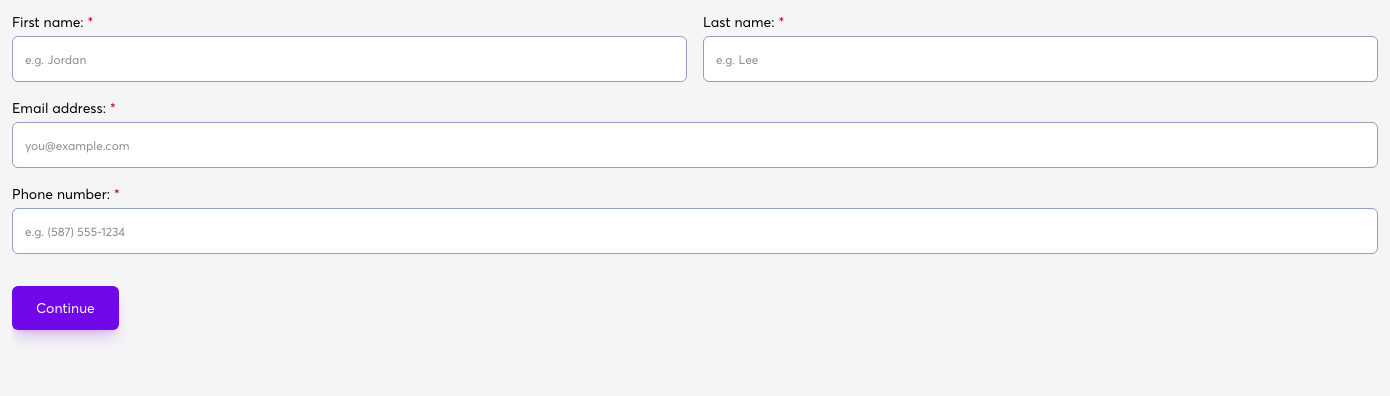
Scenario: accepts a two-letter name, trims it and marks required fields
Type "  Li  " into the field named "firstname" at (350, 59), box [12, 36, 687, 82]
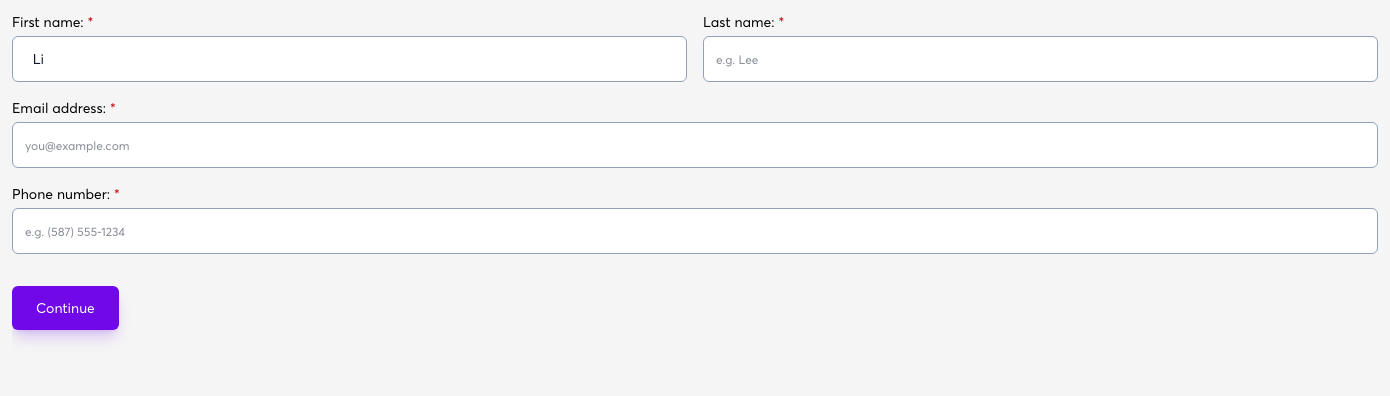
Type "Lovelace" into the field labelled "Last name:" at (1040, 59), box [703, 36, 1378, 82]
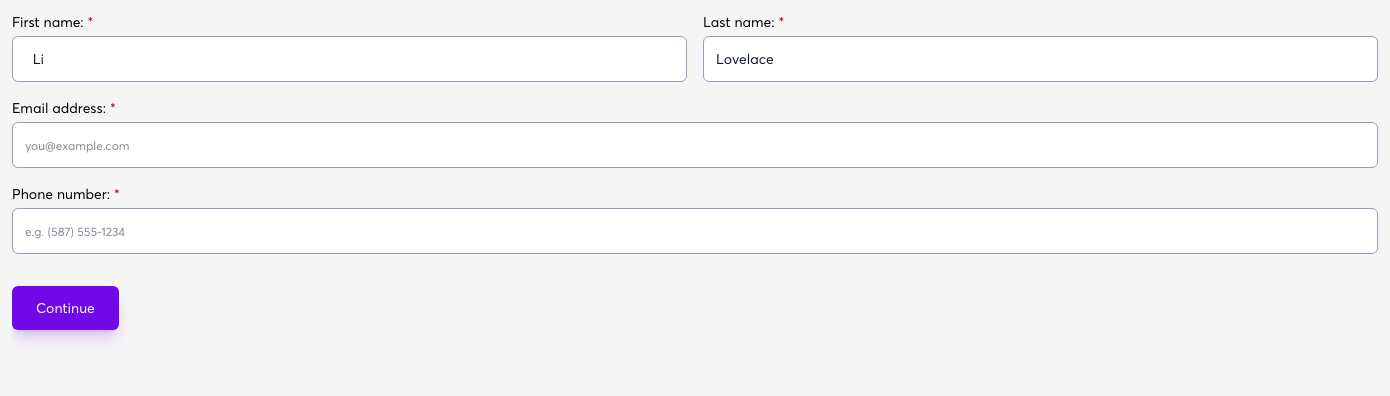
Type "ada@example.com" into the field named "emailAddress" at (695, 145), box [12, 122, 1378, 168]
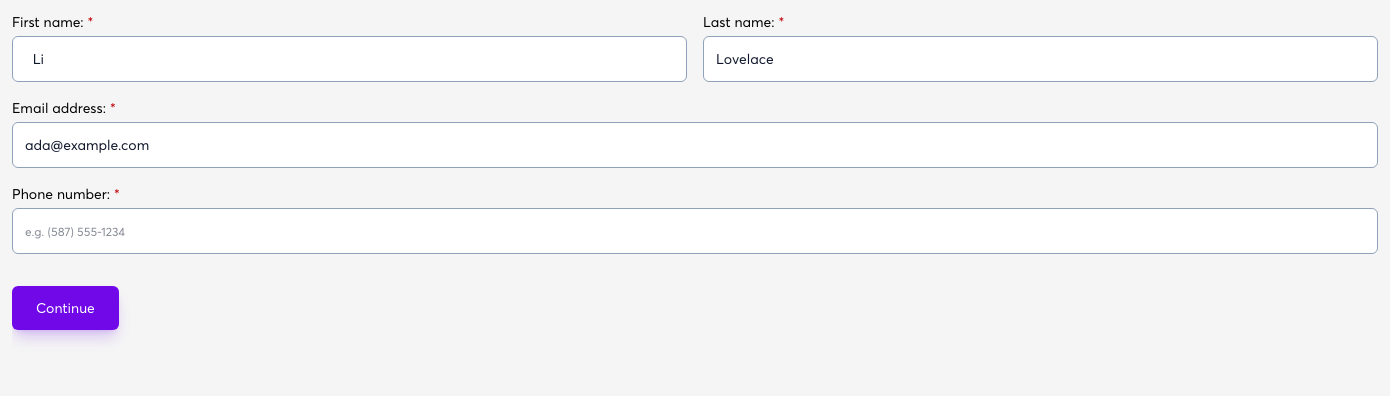
Type "5875551234" into the field named "phoneNumber" at (695, 231), box [12, 208, 1378, 254]
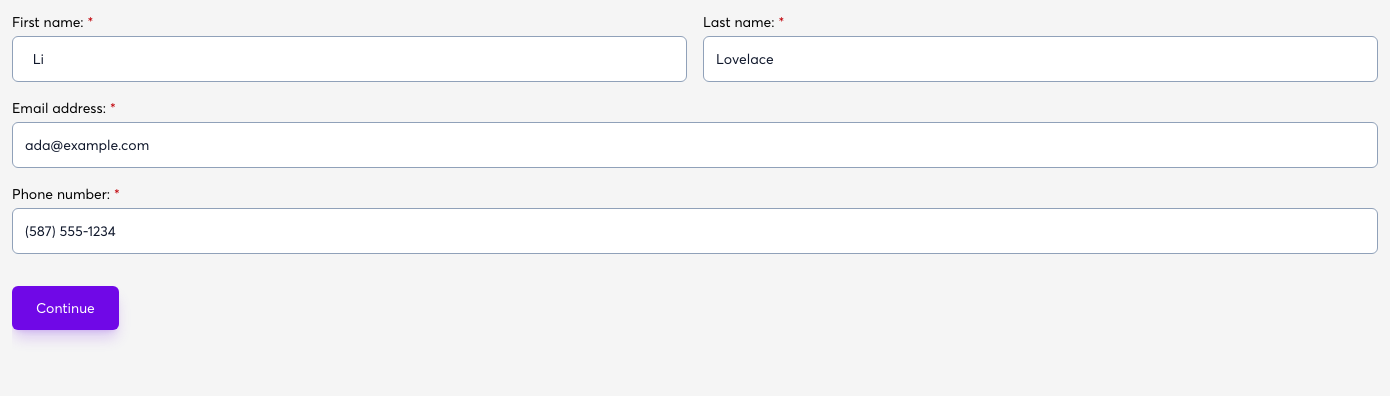
Click the button "Continue" at (65, 308), box [12, 286, 119, 330]
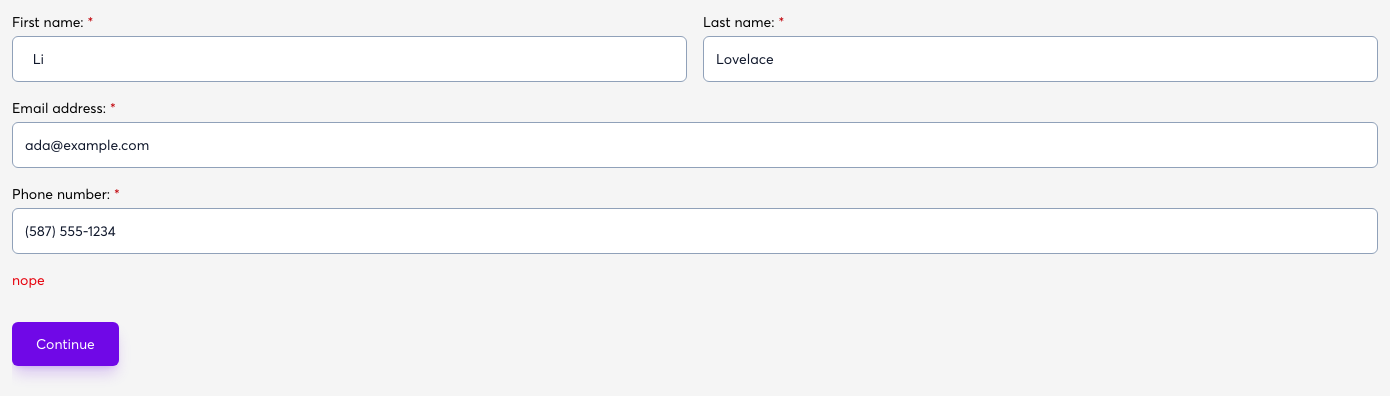
Result: the message "nope" is shown at [12, 271, 45, 288]
